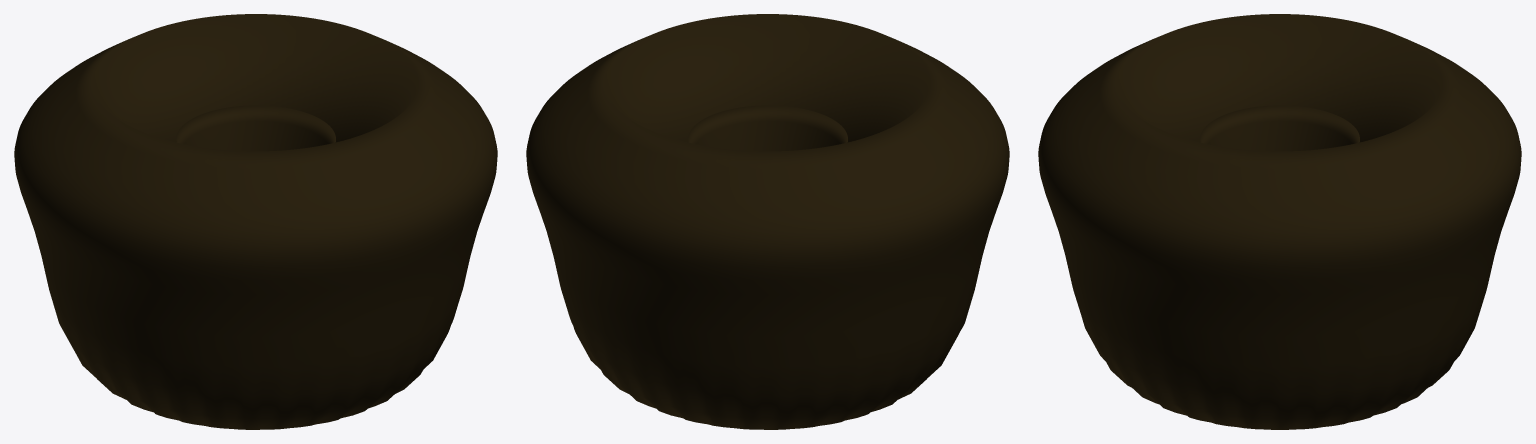
The model's file is small pot.fbx.
3 views of the same model, side by side, from view 1: azimuth 30°, elevation 25°; view 2: azimuth 150°, elevation 25°; view 3: azimuth 270°, elevation 25° (orthographic).
Parts seen in each view (by area): view 1: Small_Pot; view 2: Small_Pot; view 3: Small_Pot.
Boxes of the visible parts, x1,y1,x2,y2 form: Small_Pot: [14, 14, 497, 429]; Small_Pot: [526, 14, 1009, 429]; Small_Pot: [1038, 14, 1521, 429].
Bounding box in the file's own units: 29.62 × 21.37 × 29.62.
